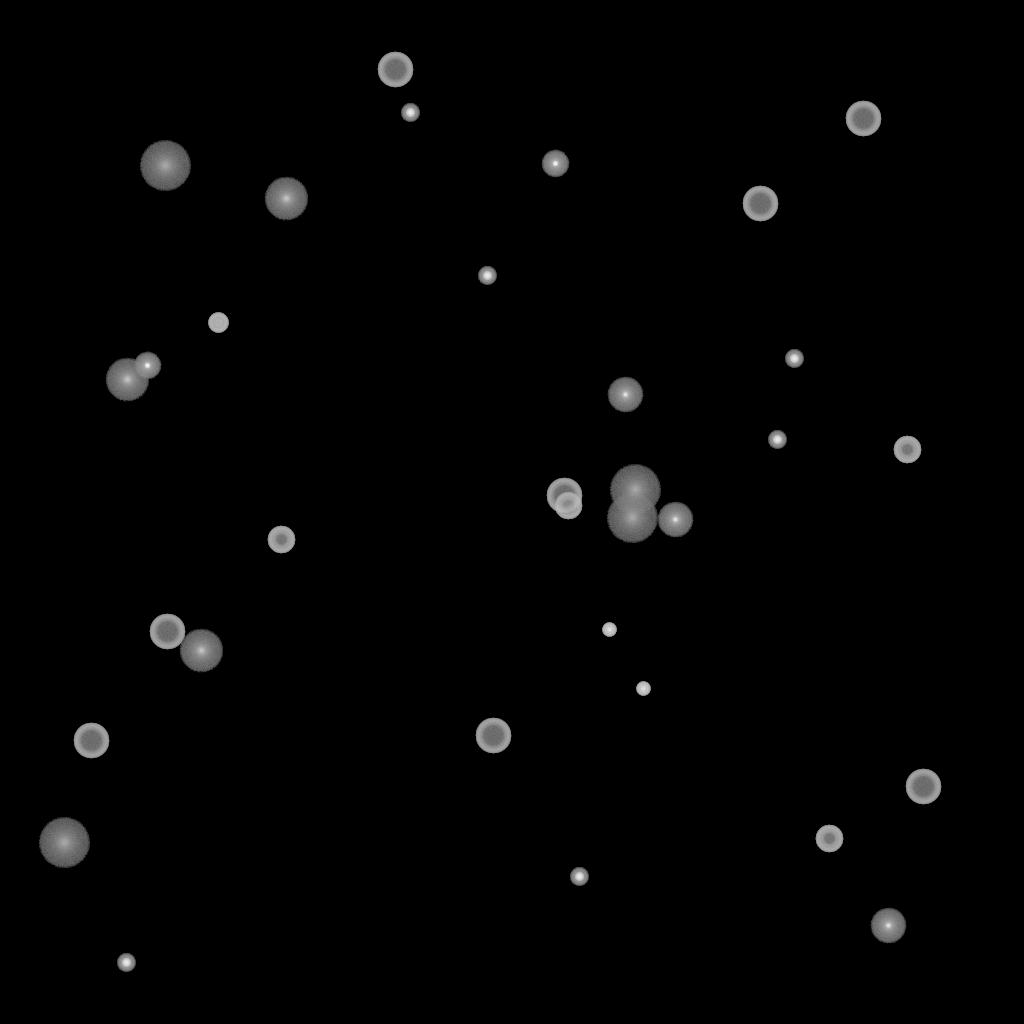depth:-10: (133, 352, 161, 380), (541, 150, 569, 178)
depth:-20: (117, 954, 135, 972), (785, 350, 803, 368), (570, 868, 588, 886), (478, 267, 496, 285), (768, 431, 786, 449), (401, 104, 419, 122)
depth:-30: (602, 623, 616, 637), (636, 682, 650, 696)
depth:-40: (208, 313, 228, 333)
depth:-50: (893, 436, 921, 464), (815, 825, 843, 853), (267, 526, 295, 554), (554, 492, 582, 520)
depth:-60: (742, 186, 778, 222), (73, 723, 109, 759), (845, 101, 881, 137), (475, 718, 511, 754), (905, 769, 941, 805), (149, 614, 185, 650), (377, 52, 413, 88), (546, 478, 582, 514)
depth:0: (607, 377, 643, 413), (870, 908, 906, 944), (657, 502, 693, 538)
depth:10: (105, 358, 149, 402), (179, 629, 223, 673), (264, 177, 308, 221)
depth:20: (606, 493, 658, 543), (38, 818, 90, 868), (139, 141, 191, 191), (609, 465, 661, 515)
